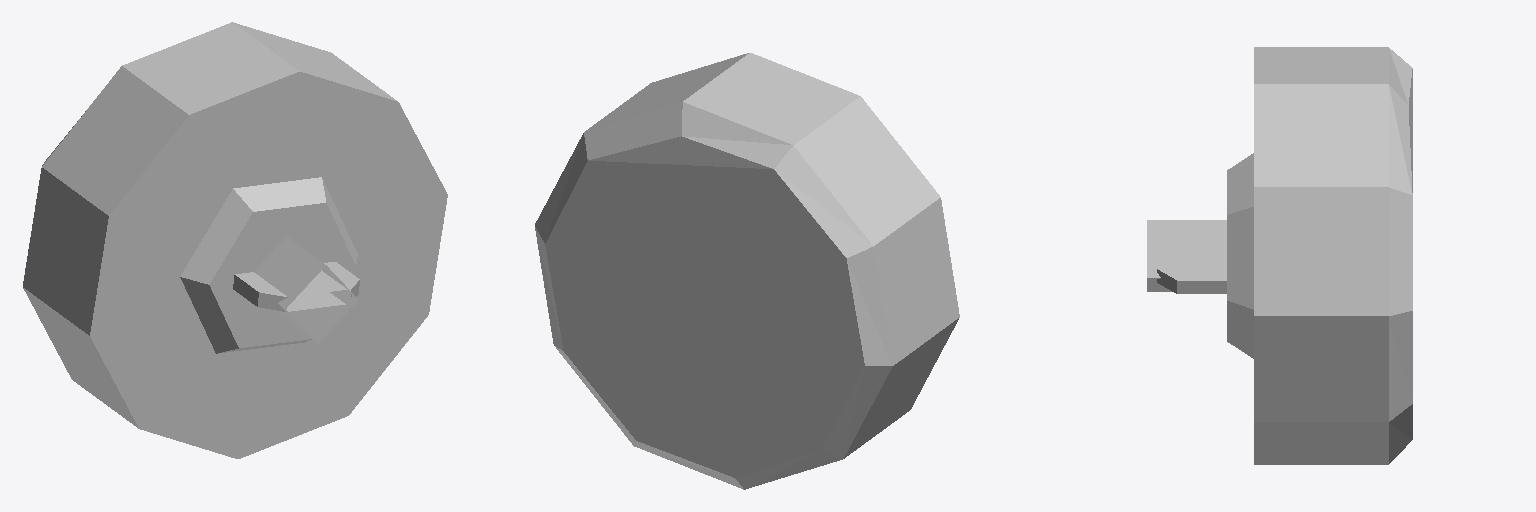
File: wheel120.obj
The picture shows the model from 3 angles: view 1: azimuth 30°, elevation 25°; view 2: azimuth 150°, elevation 25°; view 3: azimuth 270°, elevation 25°; orthographic projection.
Parts seen in each view (by area): view 1: wheel_low_textures; view 2: wheel_low_textures; view 3: wheel_low_textures.
Boxes of the visible parts, <box> form: wheel_low_textures: <box>23,22,447,458</box>; wheel_low_textures: <box>535,53,959,489</box>; wheel_low_textures: <box>1147,47,1412,464</box>.
Bounding box in the file's own units: 1.54 × 1.54 × 0.9907.